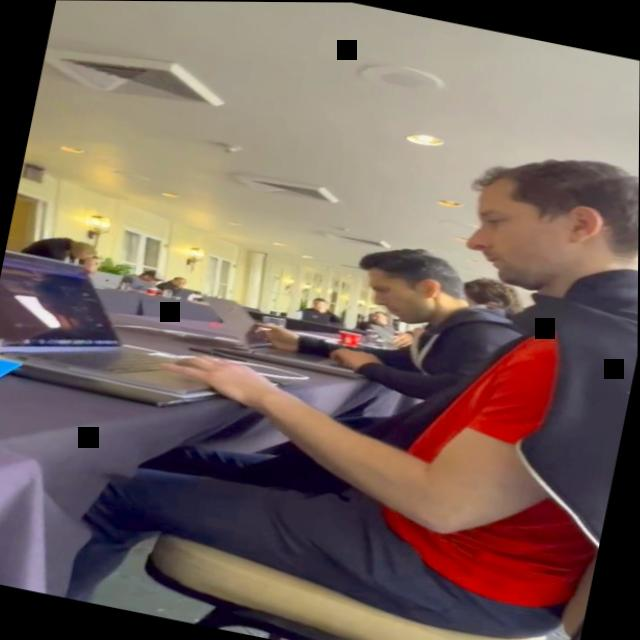NO-Mask: (458, 175, 588, 298), (361, 266, 437, 328), (84, 256, 102, 271), (312, 299, 326, 312), (72, 252, 89, 261), (372, 312, 384, 324), (175, 278, 188, 289), (145, 277, 158, 284)
